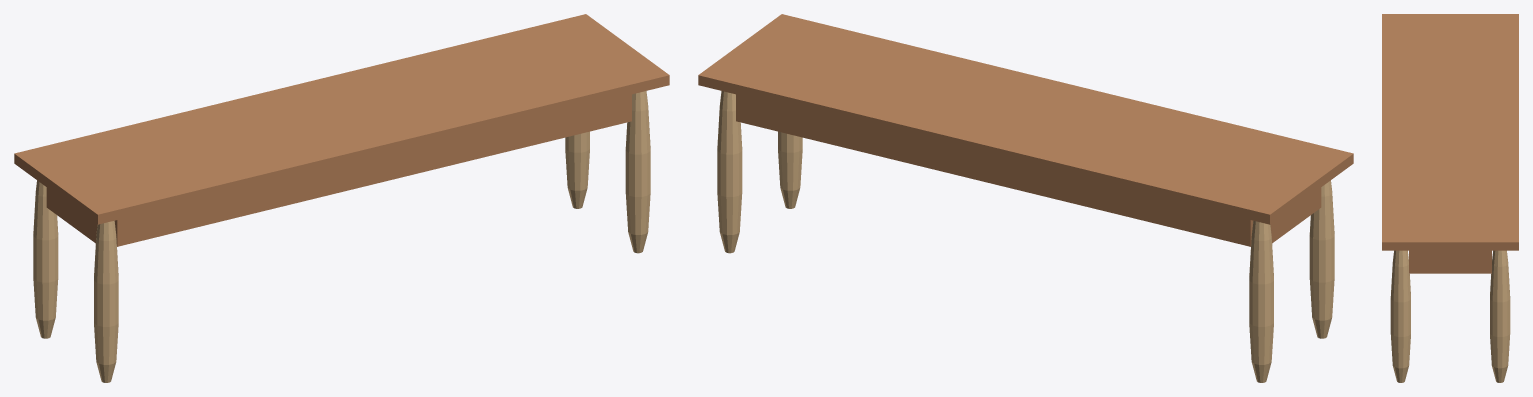
The model's file is CAL-DBN-std.glb.
3 views of the same model, side by side, from view 1: azimuth 30°, elevation 25°; view 2: azimuth 150°, elevation 25°; view 3: azimuth 270°, elevation 25° (orthographic). The views are drawn at different scales.
Parts seen in each view (by area): view 1: top:pbr, apron-f:pbr, leg-fl:pbr, leg-fr:pbr, leg-bl:pbr, leg-br:pbr, apron-l:pbr; view 2: top:pbr, apron-b:pbr, leg-bl:pbr, leg-br:pbr, leg-fl:pbr, leg-fr:pbr, apron-l:pbr; view 3: top:pbr, leg-fr:pbr, leg-br:pbr, apron-r:pbr.
Part boxes in pixels (<box>): top:pbr: <box>14,14,669,224</box>; apron-f:pbr: <box>114,94,631,246</box>; leg-fl:pbr: <box>94,220,118,382</box>; leg-fr:pbr: <box>625,91,650,253</box>; leg-bl:pbr: <box>33,180,58,338</box>; leg-br:pbr: <box>565,131,589,208</box>; apron-l:pbr: <box>46,187,97,243</box>; top:pbr: <box>698,14,1353,224</box>; apron-b:pbr: <box>736,94,1253,246</box>; leg-bl:pbr: <box>1249,220,1273,382</box>; leg-br:pbr: <box>717,91,742,253</box>; leg-fl:pbr: <box>1309,180,1334,338</box>; leg-fr:pbr: <box>778,131,802,208</box>; apron-l:pbr: <box>1270,187,1321,243</box>; top:pbr: <box>1382,14,1518,250</box>; leg-fr:pbr: <box>1390,250,1410,382</box>; leg-br:pbr: <box>1490,250,1510,382</box>; apron-r:pbr: <box>1409,250,1491,273</box>.
Size of the model in its own units: 1.5 by 0.45 by 0.38.
